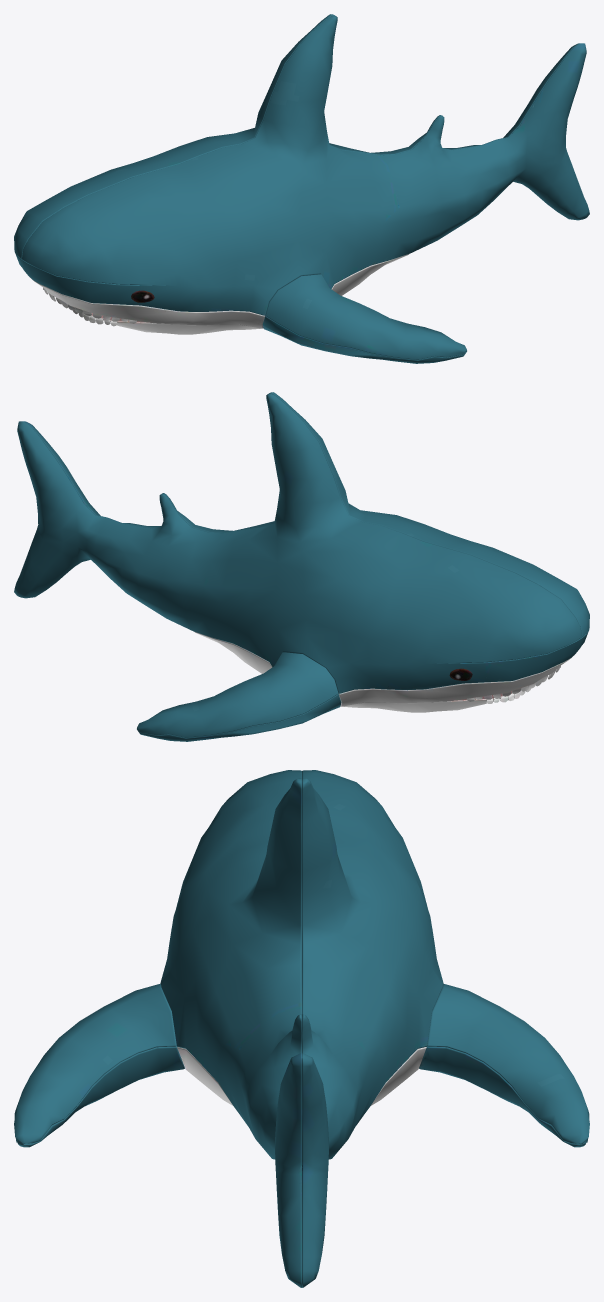
3 renders of one model, top to bottom at view 1: azimuth 30°, elevation 25°; view 2: azimuth 150°, elevation 25°; view 3: azimuth 270°, elevation 25°, orthographic. The views are drawn at different scales.
Parts seen in each view (by area): view 1: BLÅHAJ.001; view 2: BLÅHAJ.001; view 3: BLÅHAJ.001.
Boxes of the visible parts, box(x1,y1,x2,y2) form: BLÅHAJ.001: box(14, 14, 589, 363); BLÅHAJ.001: box(14, 392, 589, 741); BLÅHAJ.001: box(14, 770, 589, 1287).
Bounding box in the file's own units: 66.96 × 45.64 × 99.96.
Materials: 1 (1 with a texture image).
